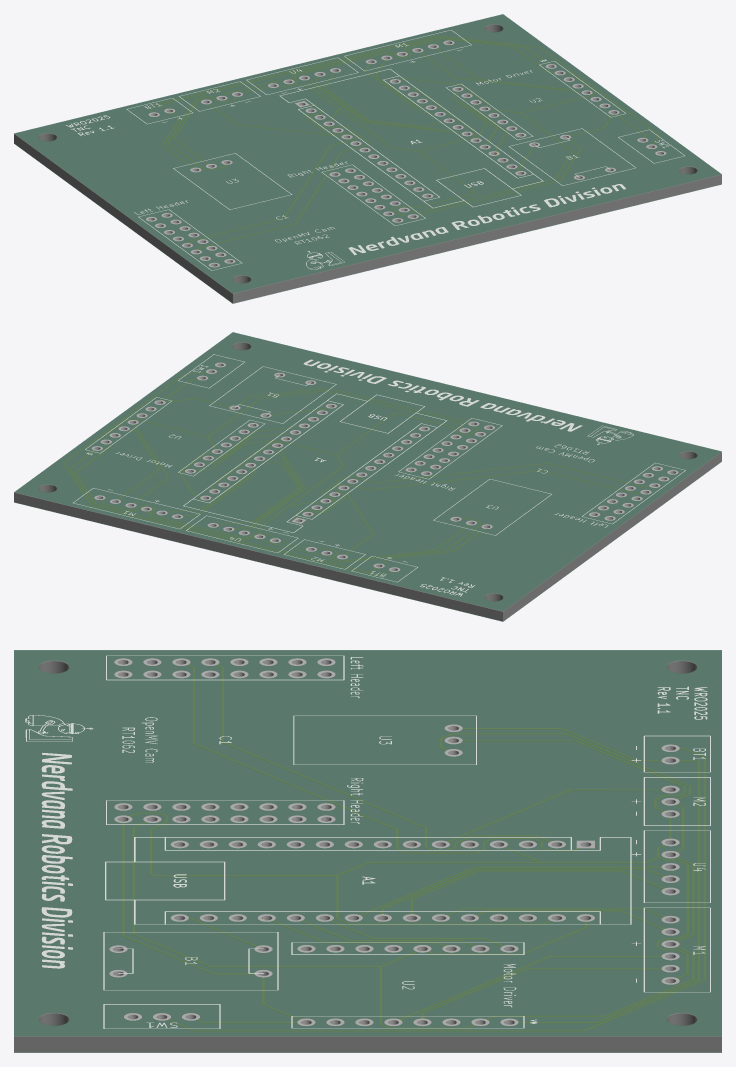
The model's file is pcb.glb.
3 views of the same model, one above another, from view 1: azimuth 30°, elevation 25°; view 2: azimuth 150°, elevation 25°; view 3: azimuth 270°, elevation 25° (orthographic). The views are drawn at different scales.
Parts seen in each view (by area): view 1: =>[0:1:1:5], =>[0:1:1:6], =>[0:1:1:4], =>[0:1:1:3], =>[0:1:1:2]; view 2: =>[0:1:1:5], =>[0:1:1:6], =>[0:1:1:4], =>[0:1:1:3], =>[0:1:1:2]; view 3: =>[0:1:1:5], =>[0:1:1:6], =>[0:1:1:4], =>[0:1:1:3], =>[0:1:1:2].
Boxes of the visible parts, x1=… form: =>[0:1:1:5]: x1=14, y1=14, x2=721, y2=303; =>[0:1:1:6]: x1=14, y1=15, x2=721, y2=303; =>[0:1:1:4]: x1=66, y1=30, x2=685, y2=270; =>[0:1:1:3]: x1=146, y1=40, x2=666, y2=267; =>[0:1:1:2]: x1=150, y1=36, x2=657, y2=249; =>[0:1:1:5]: x1=14, y1=332, x2=721, y2=621; =>[0:1:1:6]: x1=14, y1=333, x2=721, y2=621; =>[0:1:1:4]: x1=73, y1=354, x2=685, y2=596; =>[0:1:1:3]: x1=91, y1=362, x2=678, y2=571; =>[0:1:1:2]: x1=64, y1=372, x2=648, y2=574; =>[0:1:1:5]: x1=14, y1=650, x2=721, y2=1052; =>[0:1:1:6]: x1=14, y1=651, x2=721, y2=1052; =>[0:1:1:4]: x1=25, y1=655, x2=710, y2=1028; =>[0:1:1:3]: x1=109, y1=658, x2=679, y2=1026; =>[0:1:1:2]: x1=123, y1=665, x2=705, y2=1030.
Bounding box in the file's own units: 0.08 × 0.00166 × 0.062.
